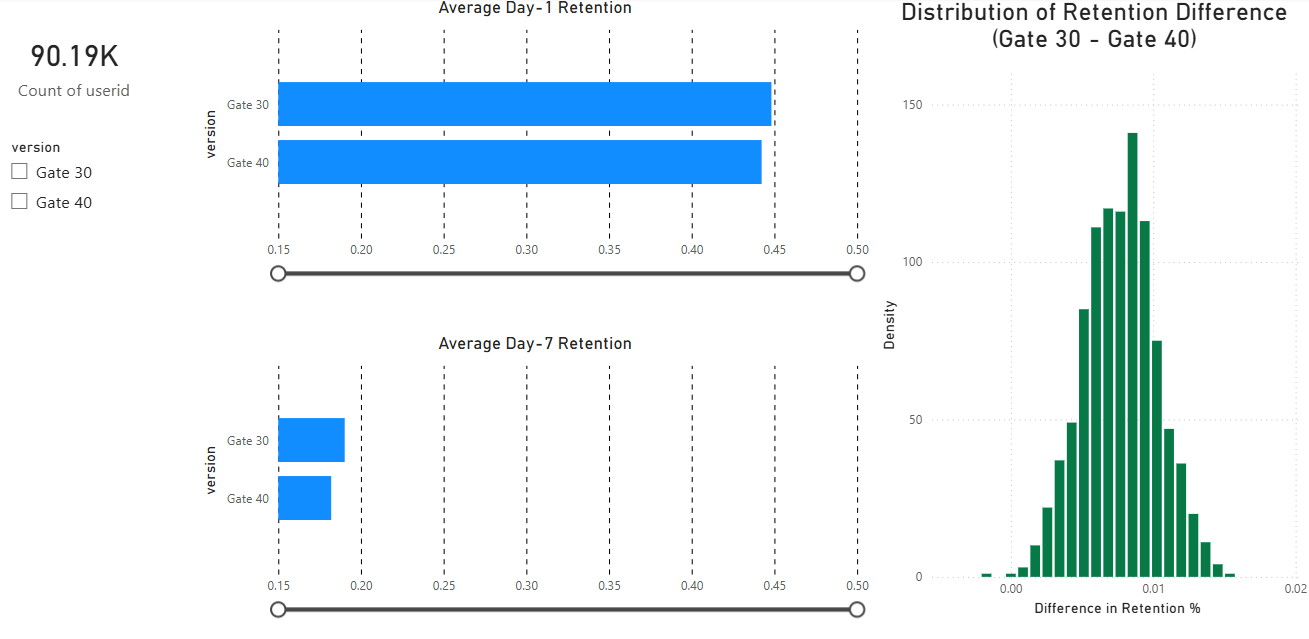

Layout of this report page (visuals, bound fields, positions):
{"tool":"powerbi","page":{"name":"Page 1","canvas":[1280,720],"ordinal":0},"visuals":[{"type":"card","fields":{"Values":["Count(cookie_cats_cleaned.userid)"]},"box":[0,0,148,132],"z":0},{"type":"slicer","fields":{"Values":["cookie_cats_cleaned.version"]},"box":[0,132,193,89],"z":1000},{"type":"clusteredBarChart","title":"Average Day-1 Retention","fields":{"Category":["cookie_cats_cleaned.version"],"Y":["Avg(cookie_cats_cleaned.Retention_Score)"]},"box":[193,0,660,280],"z":2000},{"type":"clusteredColumnChart","title":"Distribution of Retention Difference (Gate 30 - Gate 40)","fields":{"Category":["bootstrap_results.diff (bins)"],"Y":["CountNonNull(bootstrap_results.diff)"]},"box":[853,0,427,607],"z":2001},{"type":"clusteredBarChart","title":"Average Day-7 Retention","fields":{"Category":["cookie_cats_cleaned.version"],"Y":["Avg(cookie_cats_cleaned.Retention_Score_7)"]},"box":[193,327,660,280],"z":2002}]}

Visuals, with their boxes on the page's 1280x720 design canvas (x1, y1, x2, y2). These are canvas units, not pixel positions in the 1309x639 screenshot, which may show the page scaled, cropped or inside an application window:
card - Count(cookie_cats_cleaned.userid): box=[0, 0, 148, 132]
slicer - cookie_cats_cleaned.version: box=[0, 132, 193, 221]
"Average Day-1 Retention" clusteredBarChart: box=[193, 0, 853, 280]
"Distribution of Retention Difference (Gate 30 - Gate 40)" clusteredColumnChart: box=[853, 0, 1280, 607]
"Average Day-7 Retention" clusteredBarChart: box=[193, 327, 853, 607]
